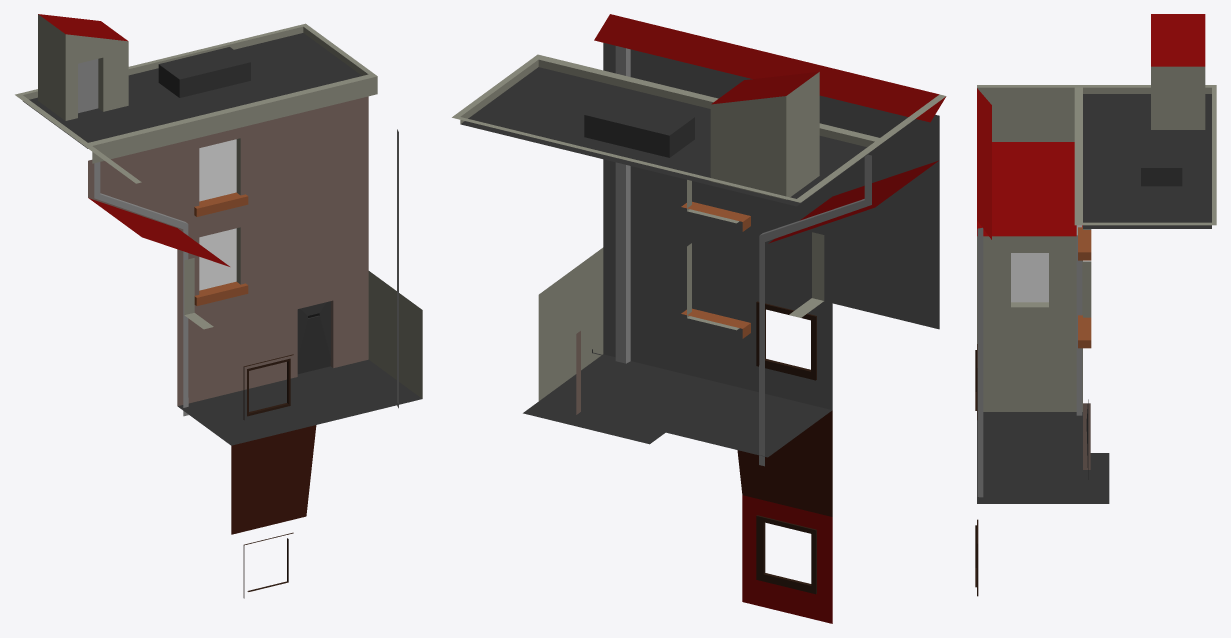
The model's file is back-street-building.glb.
3 views of the same model, side by side, from view 1: azimuth 30°, elevation 25°; view 2: azimuth 150°, elevation 25°; view 3: azimuth 270°, elevation 25° (orthographic). The views are drawn at different scales.
Visible parts, largest first — view 1: building; view 2: building; view 3: building.
Part boxes in pixels (x1,y1,x2,y2): building: (15,14,422,598); building: (452,14,946,623); building: (975,14,1216,596).
Size of the model in its own units: 8.55 by 15.26 by 6.23.
